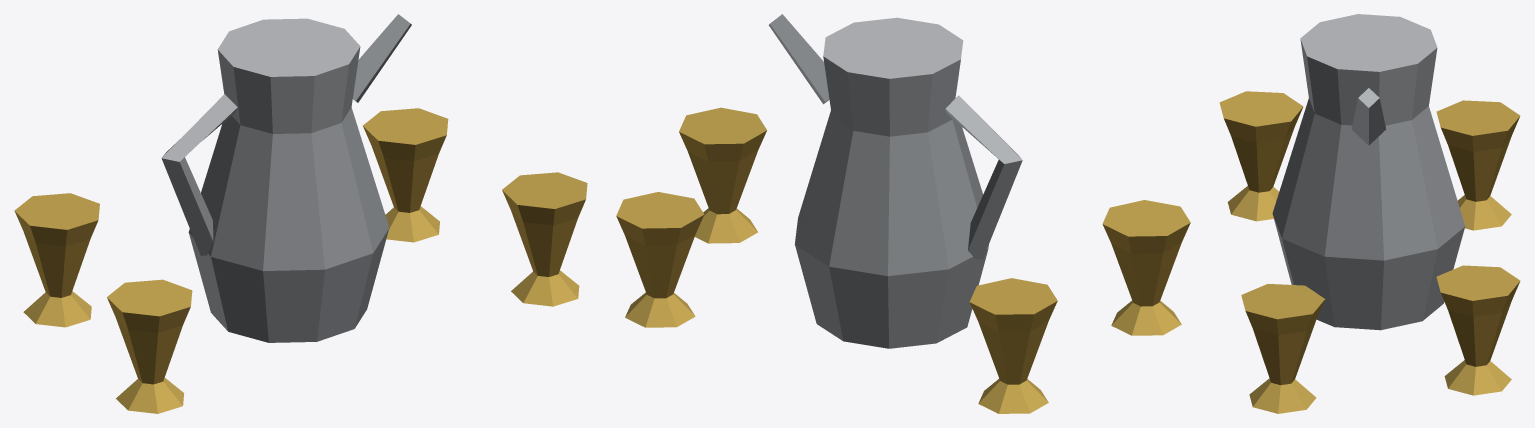
The model's file is winepitcher.glb.
3 views of the same model, side by side, from view 1: azimuth 30°, elevation 25°; view 2: azimuth 150°, elevation 25°; view 3: azimuth 270°, elevation 25° (orthographic). The views are drawn at different scales.
Visible parts, largest first — view 1: base; view 2: base; view 3: base.
Part boxes in pixels (box(x1,y1,x2,y2)): base: box(14, 14, 587, 413); base: box(616, 14, 1190, 413); base: box(1219, 14, 1520, 413).
Size of the model in its own units: 0.2488 by 0.1335 by 0.1388.
